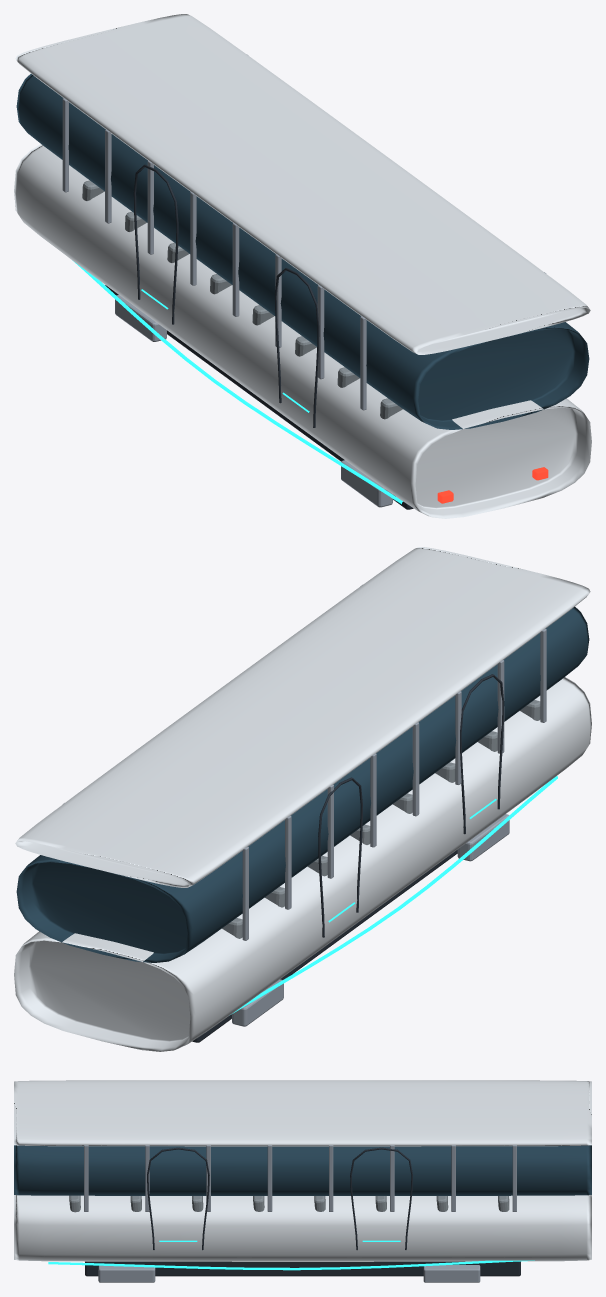
File: orion_tram_coach.gltf
The picture shows the model from 3 angles, top to bottom: view 1: azimuth 30°, elevation 25°; view 2: azimuth 150°, elevation 25°; view 3: azimuth 270°, elevation 25°; orthographic projection. The views are drawn at different scales.
Parts seen in each view (by area): view 1: orion_tram_coach; view 2: orion_tram_coach; view 3: orion_tram_coach.
Part boxes in pixels (<box>): orion_tram_coach: <box>14,14,591,518</box>; orion_tram_coach: <box>14,547,591,1051</box>; orion_tram_coach: <box>14,1080,591,1282</box>.
Bounding box in the file's own units: 2.88 × 3.08 × 10.67.
